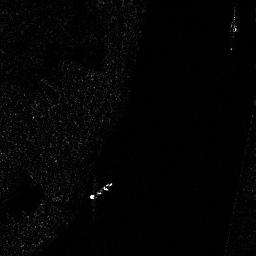ship: (90, 180, 113, 199)
